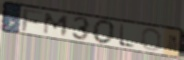3: (68, 16, 93, 42)
F: (21, 7, 44, 33)
L: (117, 22, 136, 49)
M: (42, 11, 71, 38)
O: (92, 19, 117, 45), (141, 27, 163, 52)
